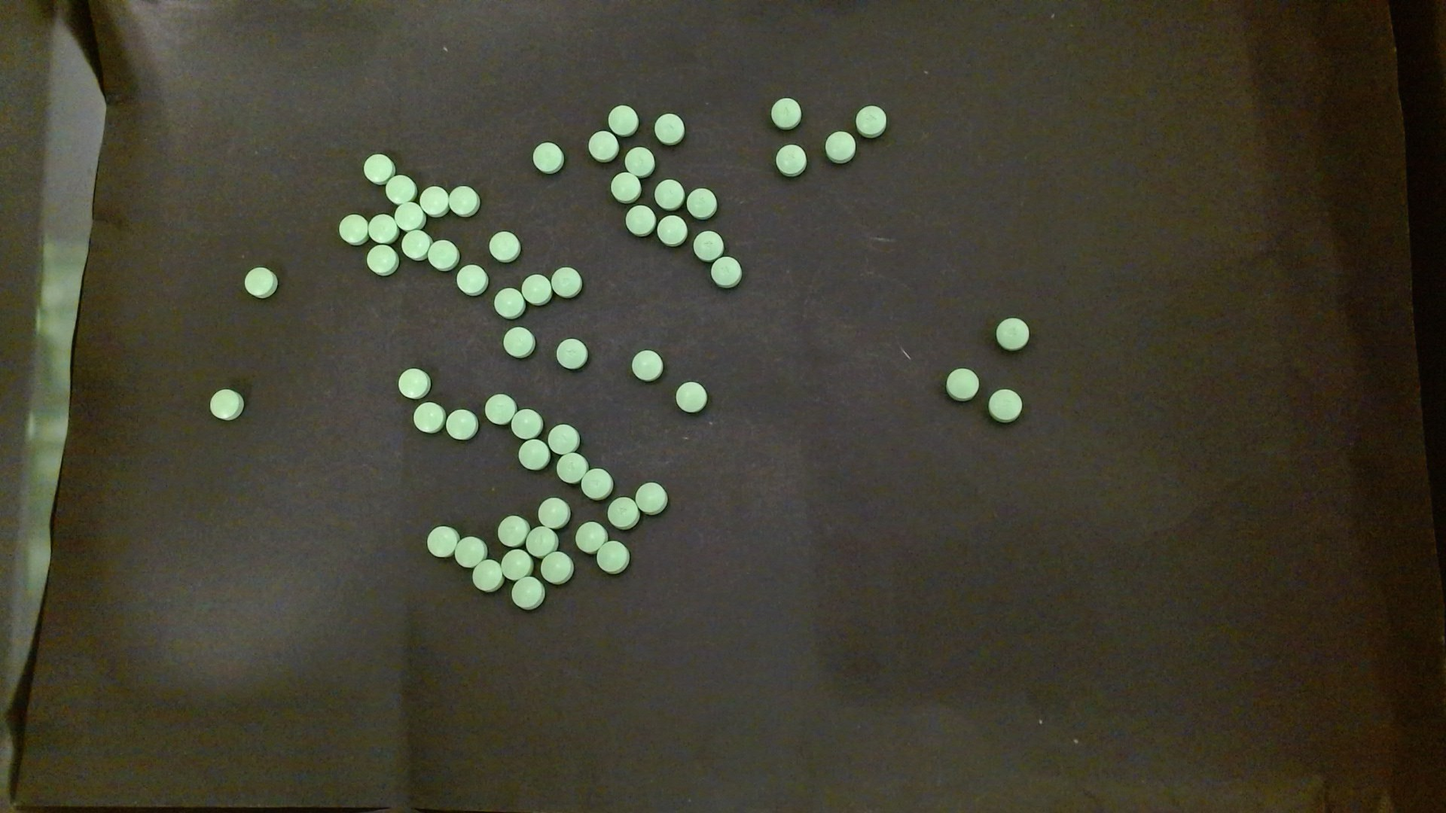Circle: (987, 388, 1023, 423), (209, 388, 244, 422), (596, 540, 630, 574), (511, 576, 545, 610), (540, 550, 573, 584), (996, 317, 1029, 351), (945, 367, 978, 400), (426, 525, 459, 558), (580, 467, 612, 500), (454, 535, 486, 568), (575, 521, 608, 553), (635, 482, 667, 515), (497, 514, 529, 547), (556, 338, 588, 370), (538, 497, 570, 529), (472, 559, 503, 592), (654, 178, 685, 211), (413, 401, 444, 434), (526, 525, 557, 558), (243, 266, 276, 297), (608, 497, 639, 529), (518, 438, 549, 470), (448, 185, 479, 217), (632, 349, 663, 381), (501, 548, 532, 580), (711, 256, 742, 288), (770, 97, 801, 129), (489, 231, 520, 263), (397, 367, 429, 398), (428, 239, 459, 271), (366, 244, 398, 275), (588, 129, 618, 162), (654, 112, 684, 145), (446, 409, 477, 440), (485, 394, 516, 425), (676, 382, 707, 413), (363, 153, 394, 184), (532, 142, 563, 173), (456, 264, 487, 295), (775, 144, 806, 175), (511, 408, 542, 439), (825, 131, 855, 163), (686, 187, 716, 219), (607, 104, 637, 136), (521, 274, 551, 306), (338, 213, 368, 245), (624, 146, 654, 177), (610, 171, 640, 202), (625, 204, 655, 235), (657, 215, 687, 246), (503, 327, 534, 357), (856, 105, 886, 136), (557, 452, 587, 483), (551, 266, 581, 297), (694, 230, 724, 261), (394, 201, 424, 232), (494, 288, 524, 318), (548, 425, 578, 455), (419, 185, 448, 216), (401, 229, 430, 260), (386, 175, 415, 205), (368, 214, 397, 243)
